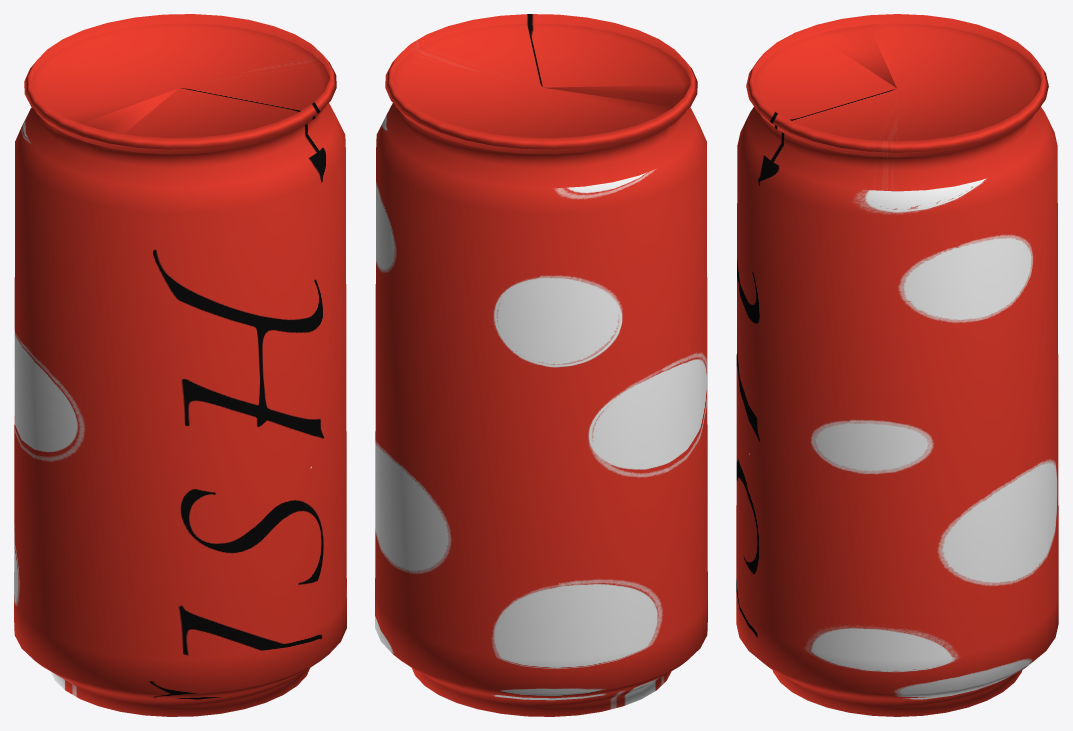
The model's file is ishSodaCan.fbx.
3 renders of one model, left to right at view 1: azimuth 30°, elevation 25°; view 2: azimuth 150°, elevation 25°; view 3: azimuth 270°, elevation 25°, orthographic.
Parts seen in each view (by area): view 1: Cylinder; view 2: Cylinder; view 3: Cylinder.
Part boxes in pixels (x1,y1,x2,y2): Cylinder: (14,14,346,716); Cylinder: (375,14,707,716); Cylinder: (736,14,1058,716).
Bounding box in the file's own units: 245 × 471 × 236.
